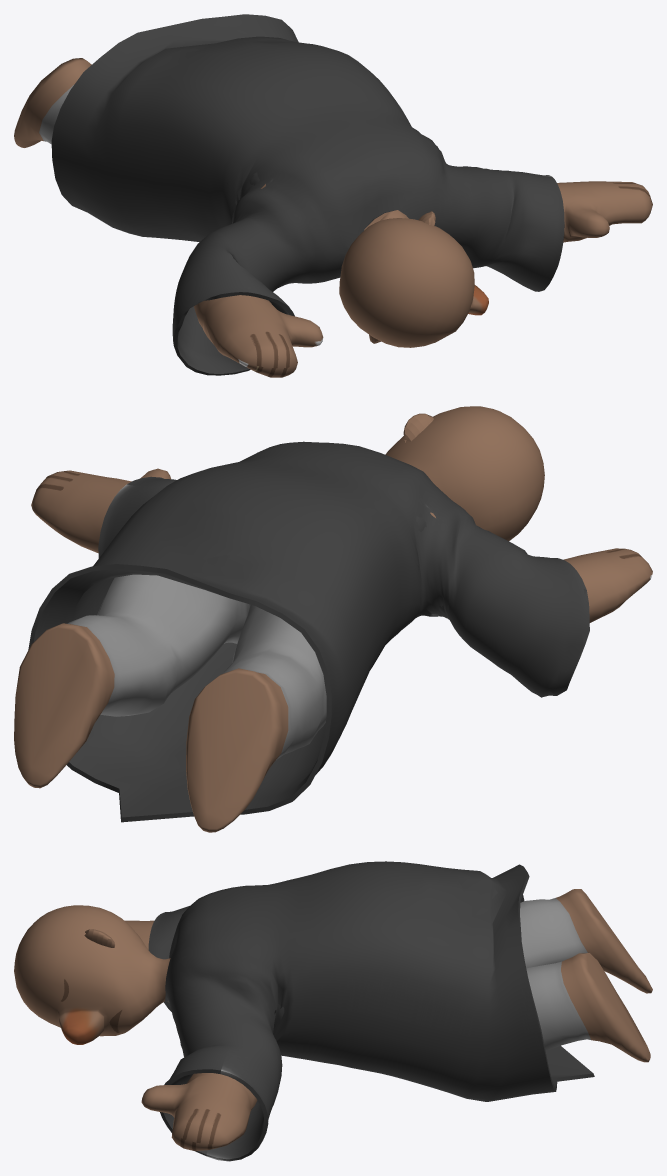
Rendered from person_laying3_v3.fbx.
3 views of the same model, one above another, from view 1: azimuth 30°, elevation 25°; view 2: azimuth 150°, elevation 25°; view 3: azimuth 270°, elevation 25° (orthographic). The views are drawn at different scales.
Parts seen in each view (by area): view 1: person3; view 2: person3; view 3: person3.
Part boxes in pixels (x1,y1,x2,y2): person3: [14, 14, 652, 377]; person3: [14, 406, 652, 832]; person3: [14, 861, 652, 1161].
Size of the model in its own units: 1.7 by 0.7283 by 2.1.
1 material, 1 textured.
